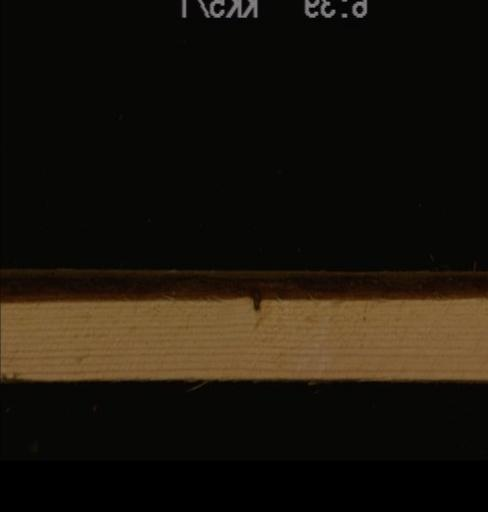wave: (0, 265, 486, 301)
